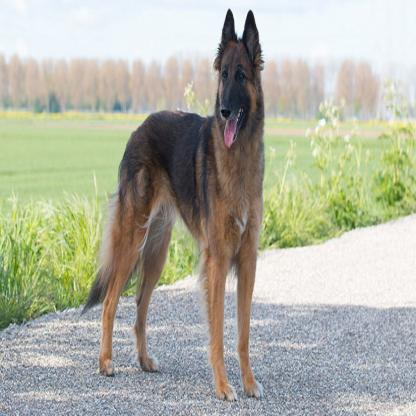dog: (88, 12, 265, 408)
